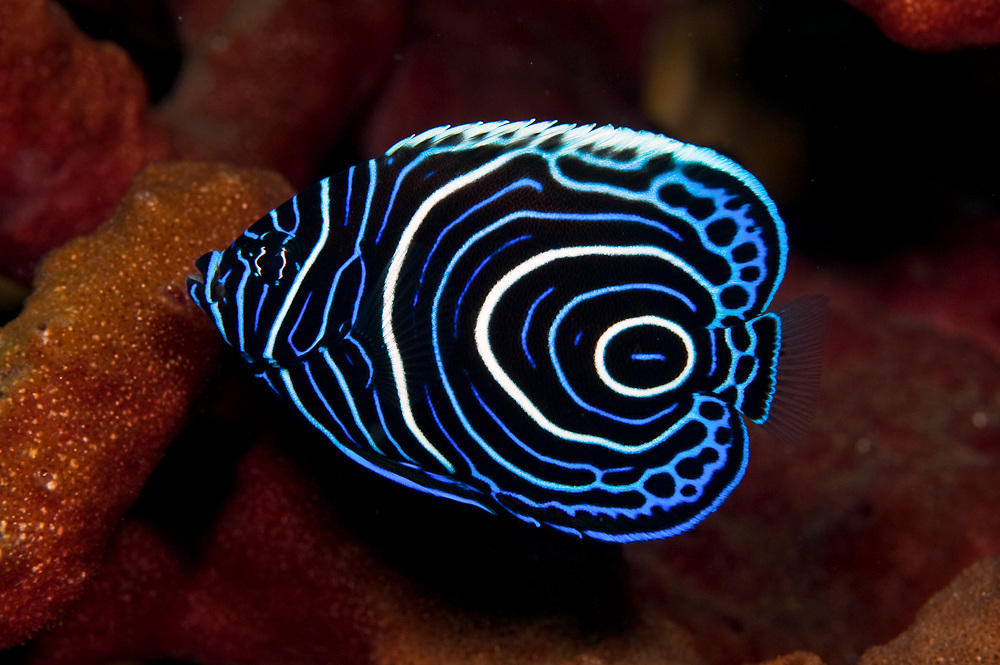Pomacanthus_imperator: (185, 93, 832, 550)
